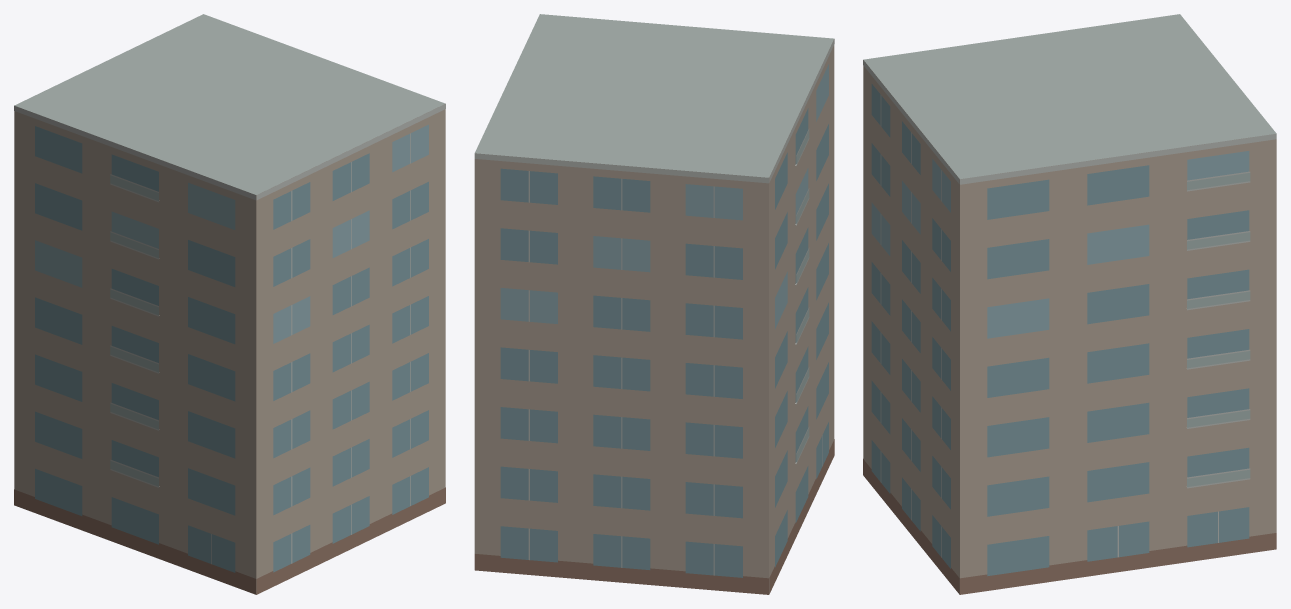
File: survey-upis-33020269.glb
3 views of the same model, side by side, from view 1: azimuth 30°, elevation 25°; view 2: azimuth 150°, elevation 25°; view 3: azimuth 270°, elevation 25° (orthographic). The views are drawn at different scales.
Parts seen in each view (by area): view 1: survey-upis-33020269.tmp; view 2: survey-upis-33020269.tmp; view 3: survey-upis-33020269.tmp.
Part boxes in pixels (x1=…): survey-upis-33020269.tmp: x1=14, y1=14, x2=445, y2=594; survey-upis-33020269.tmp: x1=474, y1=14, x2=834, y2=594; survey-upis-33020269.tmp: x1=863, y1=14, x2=1276, y2=594.
Size of the model in its own units: 15.53 by 18.2 by 16.42.
